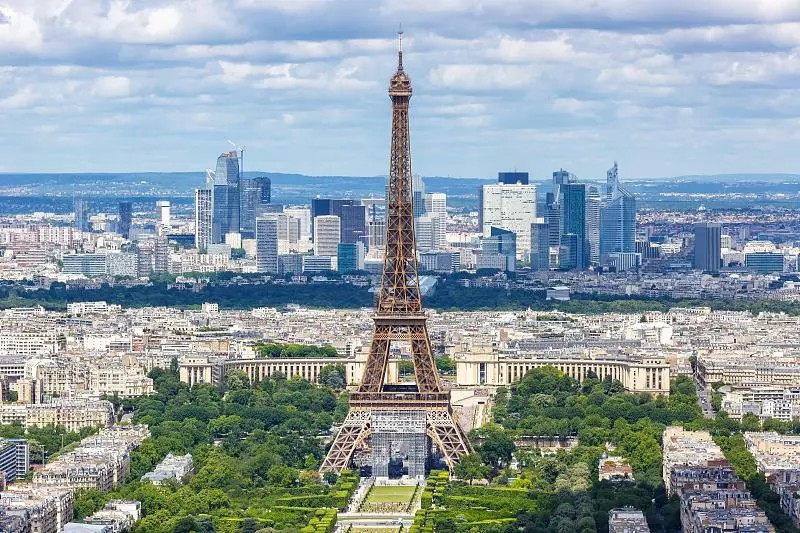Eiffel: (319, 22, 474, 480)
